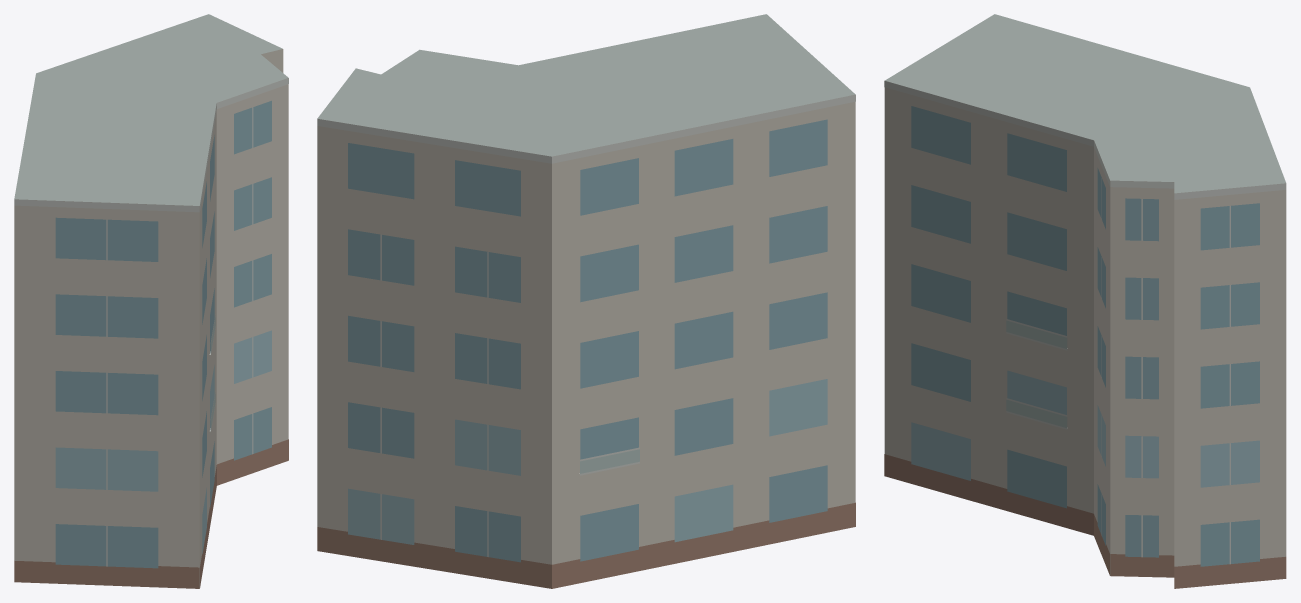
The model's file is survey-upis-32476803.glb.
3 views of the same model, side by side, from view 1: azimuth 30°, elevation 25°; view 2: azimuth 150°, elevation 25°; view 3: azimuth 270°, elevation 25° (orthographic). The views are drawn at different scales.
Visible parts, largest first — view 1: survey-upis-32476803.tmp; view 2: survey-upis-32476803.tmp; view 3: survey-upis-32476803.tmp.
Boxes of the visible parts, box(x1,y1,x2,y2) form: survey-upis-32476803.tmp: box(14, 14, 288, 588); survey-upis-32476803.tmp: box(317, 14, 855, 588); survey-upis-32476803.tmp: box(884, 14, 1286, 588).
Size of the model in its own units: 14.41 by 14.8 by 13.64.
